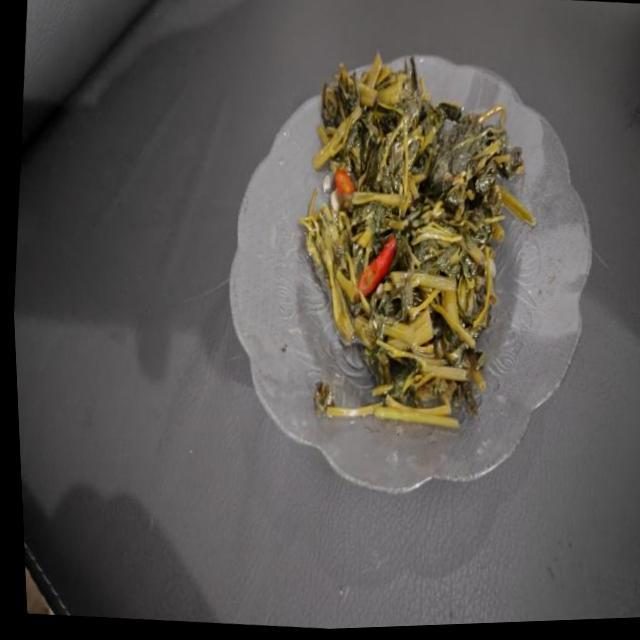tumis_kangkung: (300, 58, 522, 427)
